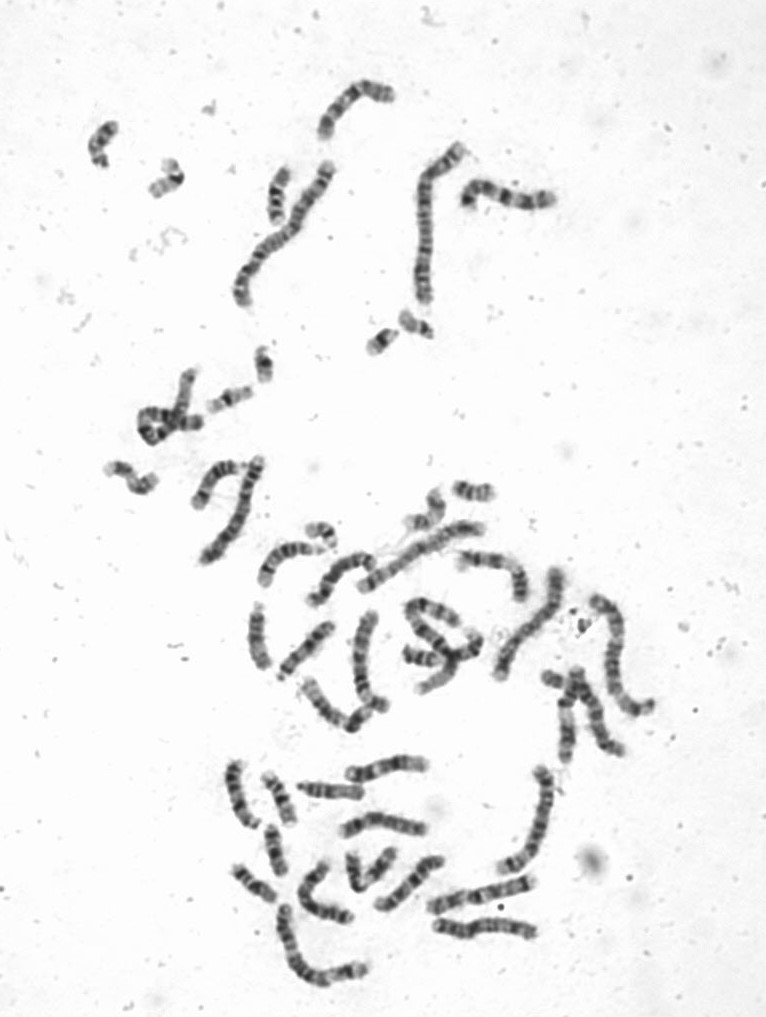chromosomes: (219, 152, 346, 323), (403, 136, 485, 312), (347, 519, 491, 601), (487, 557, 570, 684), (267, 901, 372, 997), (585, 592, 660, 720), (194, 453, 268, 575), (124, 355, 216, 449), (492, 762, 557, 881), (307, 71, 406, 146), (402, 592, 465, 701), (568, 664, 633, 769), (424, 871, 541, 919), (297, 850, 361, 936), (302, 549, 383, 613), (293, 674, 376, 735), (369, 857, 452, 916), (348, 607, 393, 715), (269, 618, 340, 686), (459, 545, 537, 606), (456, 176, 563, 218), (213, 749, 263, 835), (535, 666, 578, 765), (399, 625, 487, 672), (341, 750, 442, 789), (252, 541, 327, 592), (431, 914, 543, 947), (186, 457, 250, 513), (334, 813, 436, 847), (141, 150, 197, 208), (344, 840, 402, 896), (79, 112, 128, 177), (260, 160, 302, 235), (221, 861, 282, 910), (103, 454, 161, 504), (294, 776, 376, 811), (399, 485, 449, 537), (391, 305, 444, 348), (244, 600, 273, 676), (258, 820, 295, 877), (300, 514, 345, 558), (257, 773, 298, 821), (353, 327, 400, 368), (204, 385, 256, 420), (454, 470, 501, 507), (253, 338, 279, 391)
